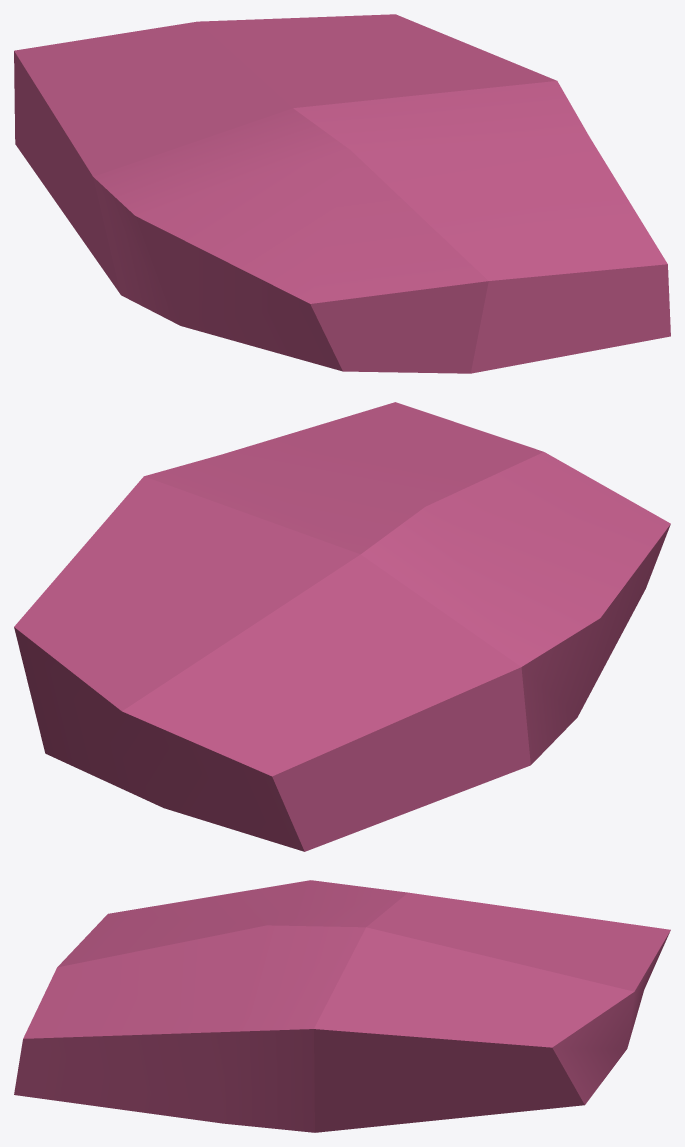
The model's file is Rock_02_Lod1.fbx.
The picture shows the model from 3 angles, top to bottom: view 1: azimuth 30°, elevation 25°; view 2: azimuth 150°, elevation 25°; view 3: azimuth 270°, elevation 25°; orthographic projection. The views are drawn at different scales.
Visible parts, largest first — view 1: Rock_02_Lod1; view 2: Rock_02_Lod1; view 3: Rock_02_Lod1.
Part boxes in pixels (left/top/right/bottom): Rock_02_Lod1: left=14, top=14, right=670, bottom=373; Rock_02_Lod1: left=14, top=402, right=670, bottom=851; Rock_02_Lod1: left=14, top=880, right=670, bottom=1132.
Size of the model in its own units: 243 by 97.21 by 388.
